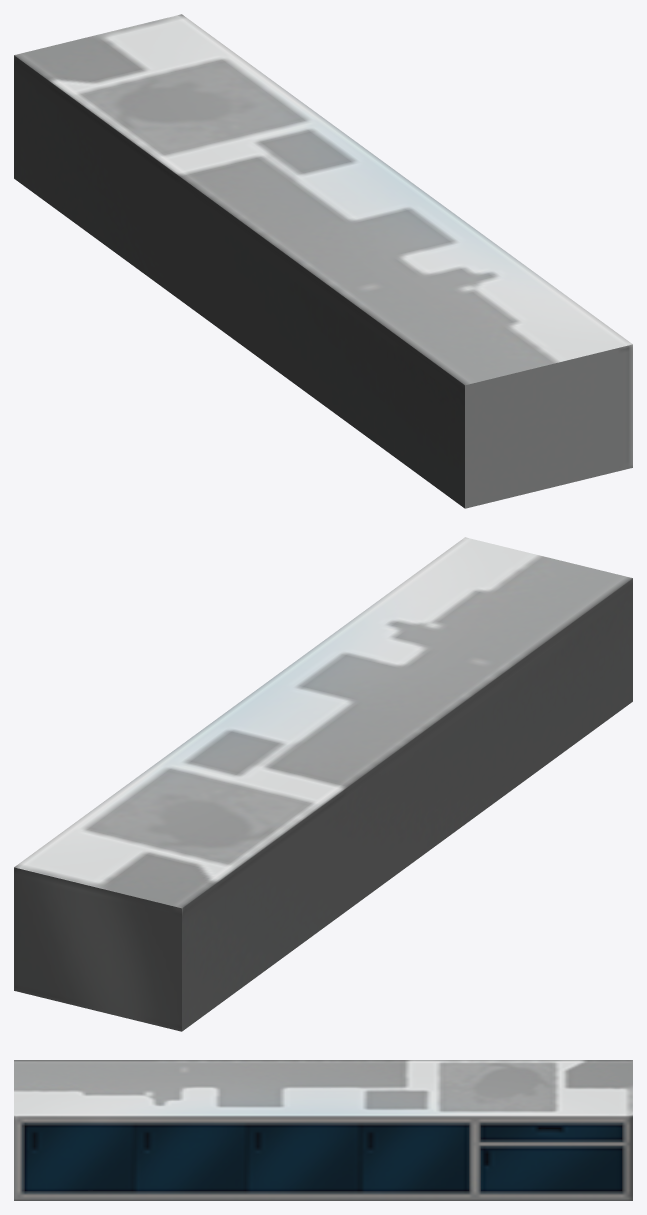
Rendered from Tx_prop_counter_2.fbx.
3 renders of one model, top to bottom at view 1: azimuth 30°, elevation 25°; view 2: azimuth 150°, elevation 25°; view 3: azimuth 270°, elevation 25°, orthographic. The views are drawn at different scales.
Visible parts, largest first — view 1: Tx_prop_counter_9; view 2: Tx_prop_counter_9; view 3: Tx_prop_counter_9.
Boxes of the visible parts, left/top/right/bottom form: Tx_prop_counter_9: left=14, top=14, right=632, bottom=508; Tx_prop_counter_9: left=14, top=537, right=632, bottom=1031; Tx_prop_counter_9: left=14, top=1060, right=632, bottom=1200.
Bounding box in the file's own units: 4.75 × 3.33 × 22.09.
Materials: 1 (1 with a texture image).
